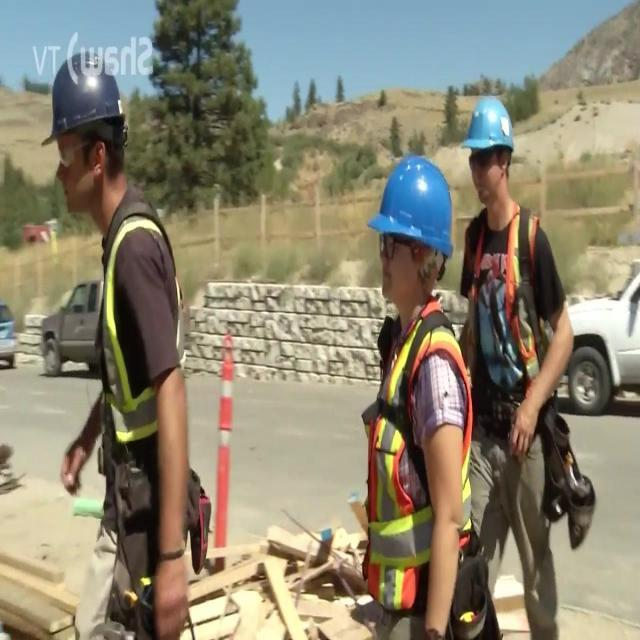reflective_jacket: (72, 189, 202, 548), (348, 298, 483, 619), (455, 195, 570, 485)
safety_helmet: (359, 141, 461, 273), (33, 44, 138, 161), (456, 81, 521, 170)
